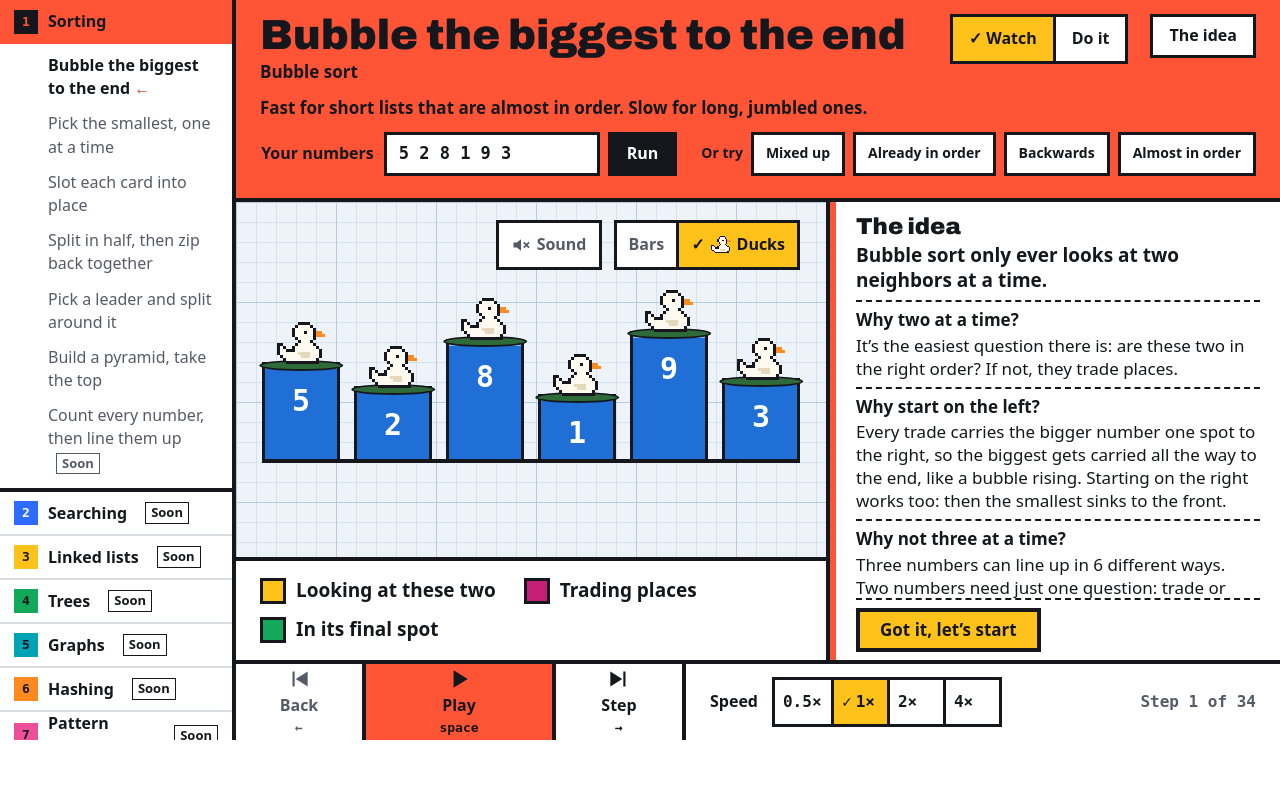
Test case: The idea at step 1 › Start goes on to step 2, shows the step panels and puts focus on the page
The width and height of the screenshot is (1280, 800).
Click the button "Got it, let’s start".
click(948, 630)  # box x1=856 y1=608 x2=1041 y2=652
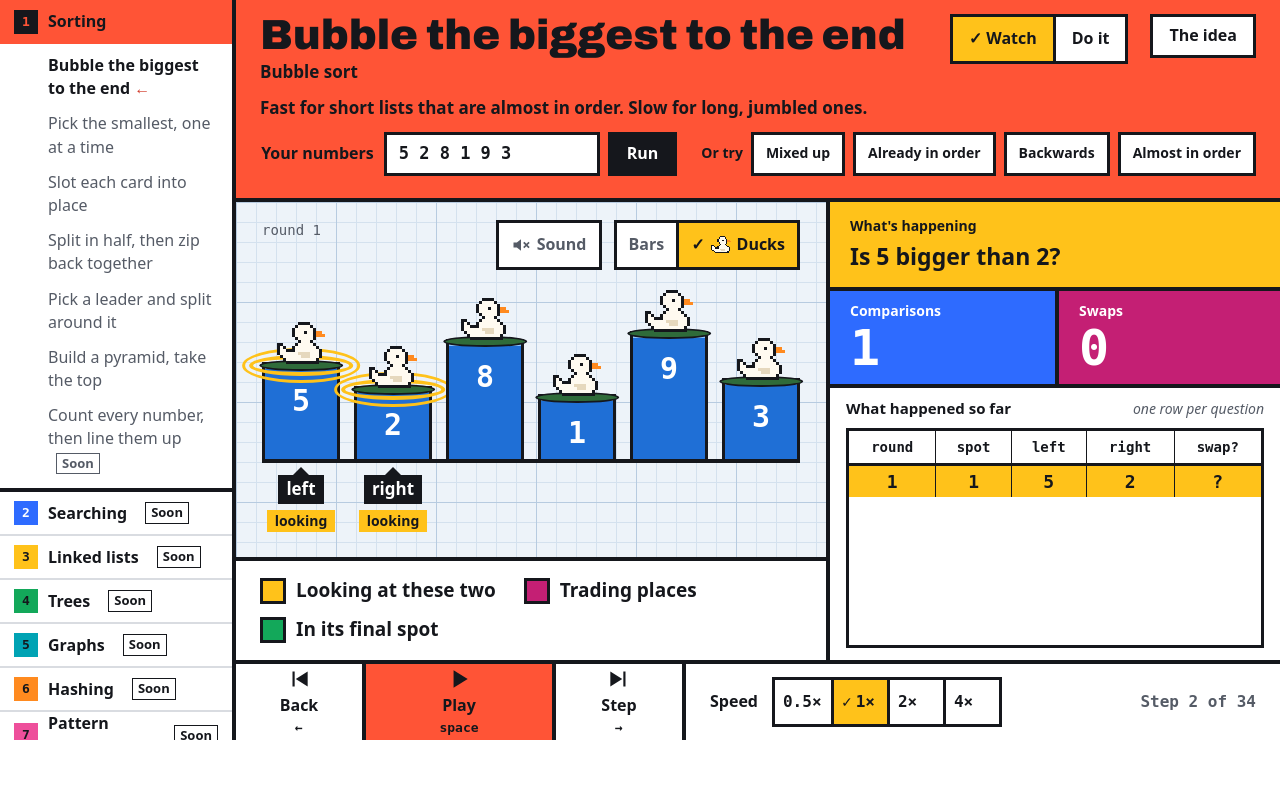
expect the text "Step 2 of 34" is shown: met, box x1=1140 y1=692 x2=1256 y2=711
expect the element "What's happening" is shown: met, box x1=830 y1=202 x2=1279 y2=291
